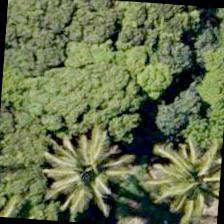Kelapa_Sawit: (29, 120, 125, 216), (156, 130, 223, 224)
